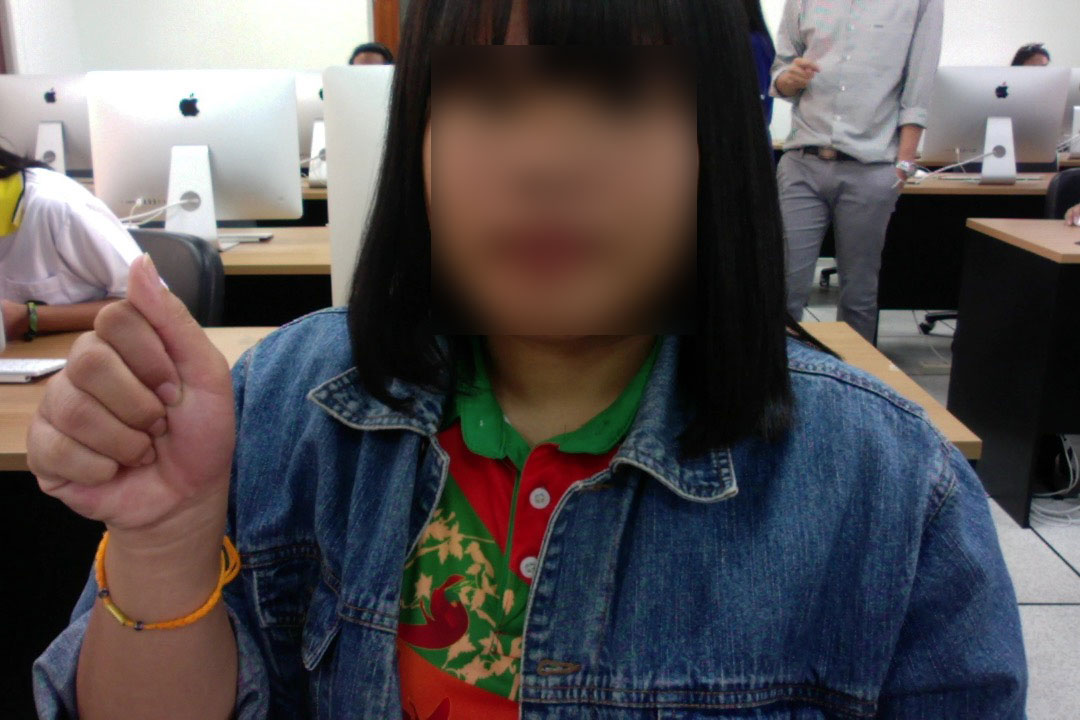or: (14, 234, 282, 553)
